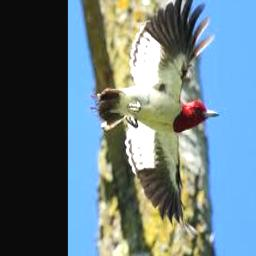Woodpecker: (91, 0, 219, 233)
